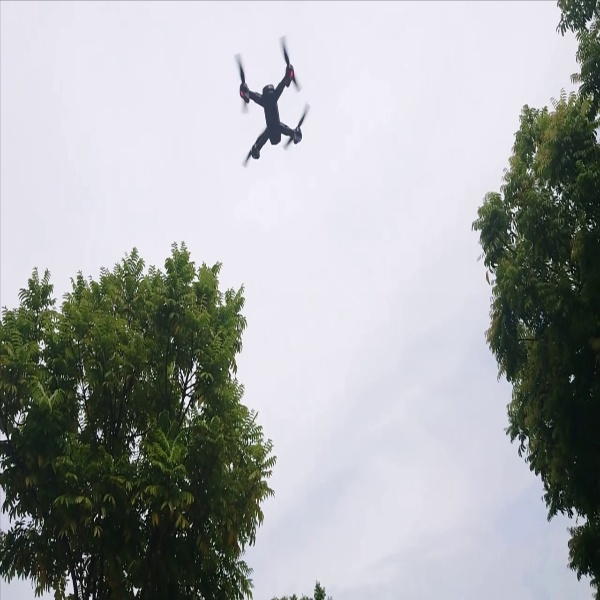drone: (227, 34, 317, 170)
